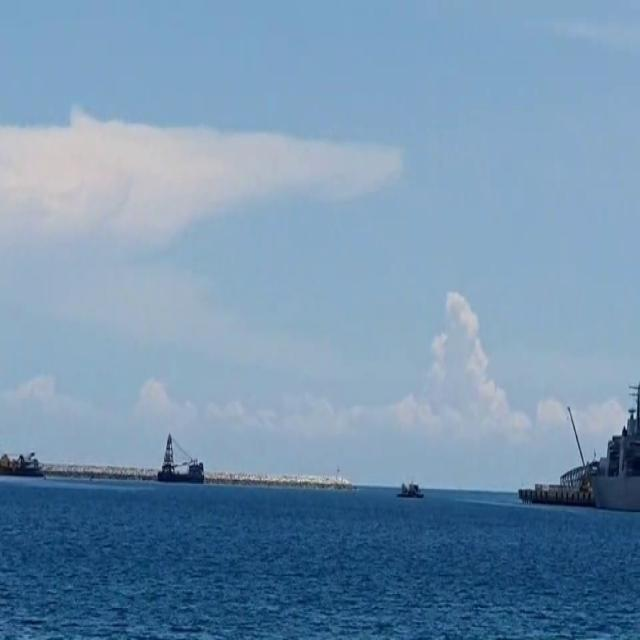civilianship: (506, 377, 640, 520), (148, 432, 216, 483), (395, 475, 428, 507)
